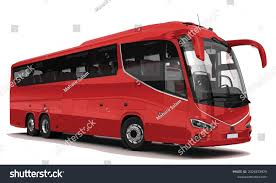bus: (8, 22, 267, 151)
